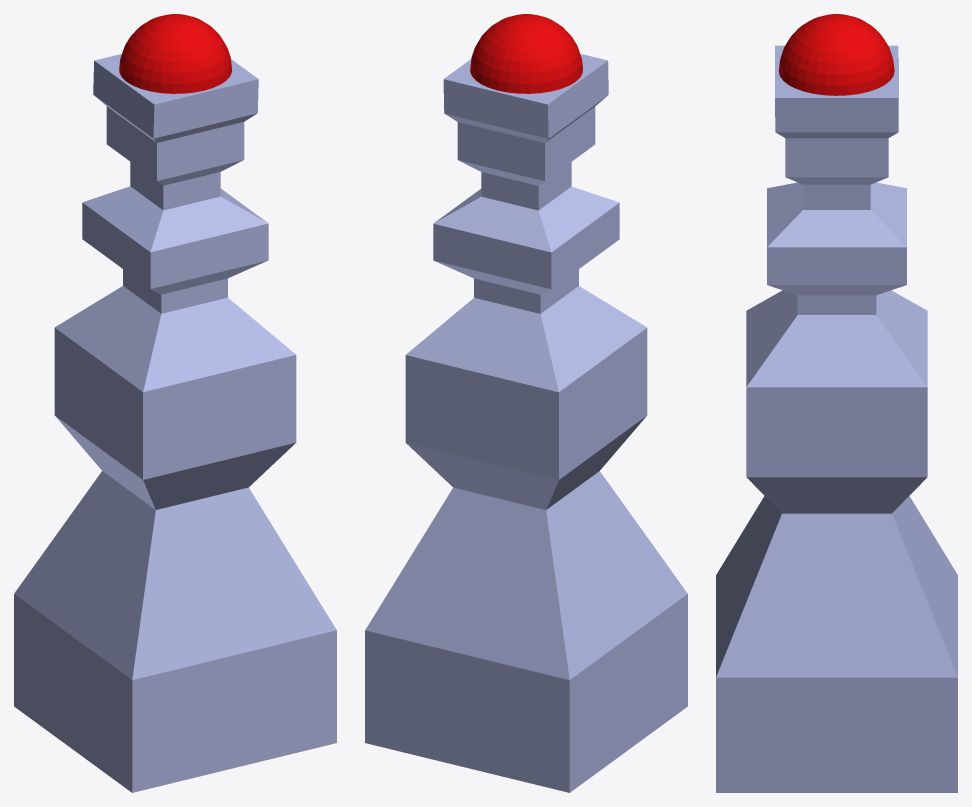
The model's file is Main Button1.fbx.
3 renders of one model, left to right at view 1: azimuth 30°, elevation 25°; view 2: azimuth 150°, elevation 25°; view 3: azimuth 270°, elevation 25°, orthographic. The views are drawn at different scales.
Parts seen in each view (by area): view 1: Cube; view 2: Cube; view 3: Cube.
Part boxes in pixels (left/top/right/bottom): Cube: left=14, top=14, right=336, bottom=792; Cube: left=365, top=14, right=687, bottom=792; Cube: left=716, top=14, right=957, bottom=792.
Bounding box in the file's own units: 261 × 858 × 261.
